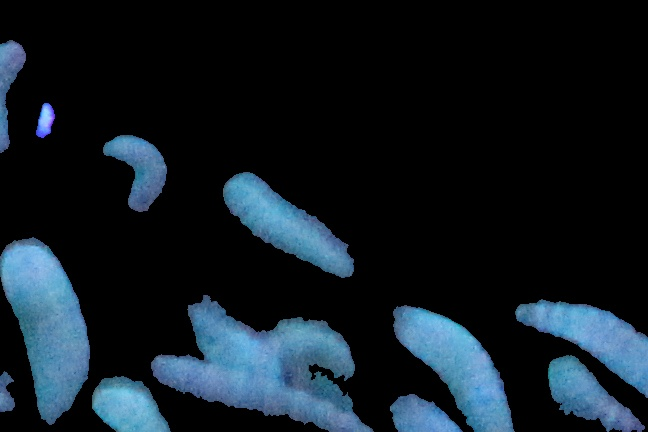larvae: (153, 345, 361, 431), (1, 237, 86, 432), (218, 160, 354, 276), (393, 303, 514, 432), (510, 289, 648, 394), (184, 295, 282, 379), (547, 351, 640, 432), (278, 310, 355, 384), (105, 133, 172, 218), (92, 377, 164, 432), (385, 391, 461, 432), (1, 37, 24, 160)
